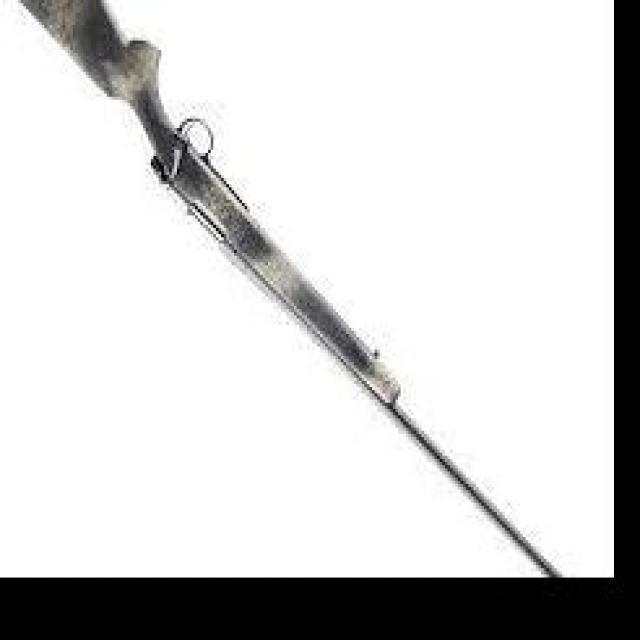weapon: (19, 0, 563, 578)
